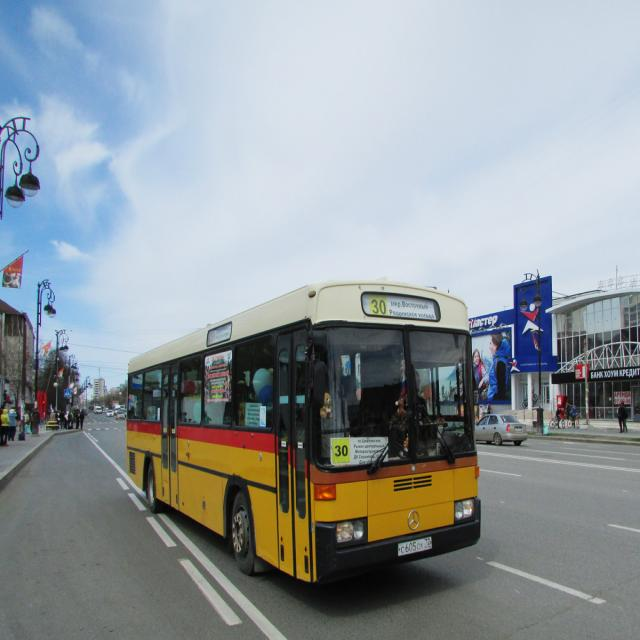number-of-bus: (333, 439, 351, 464)
